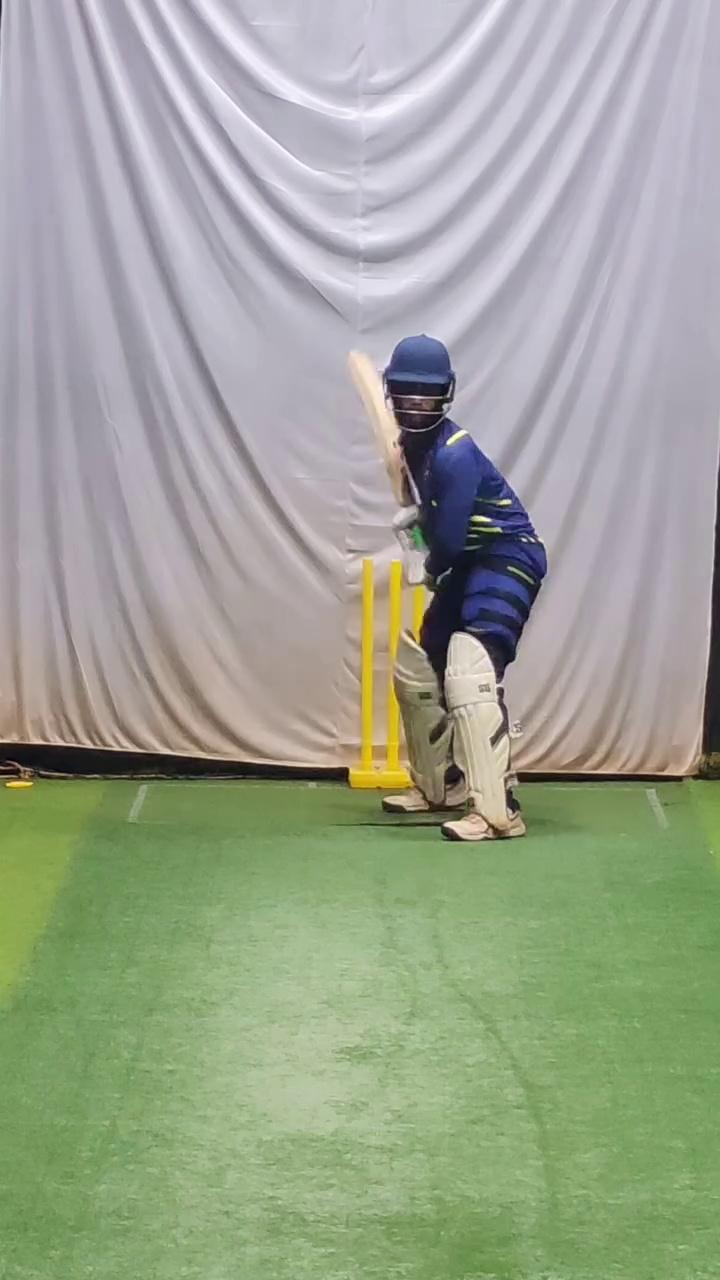bat: (341, 341, 426, 511)
